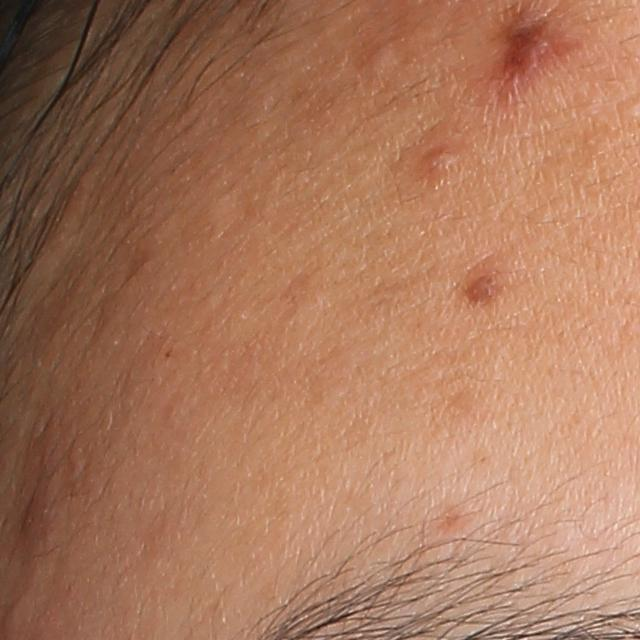comedo: (361, 38, 401, 82)
papule: (414, 135, 473, 181)
